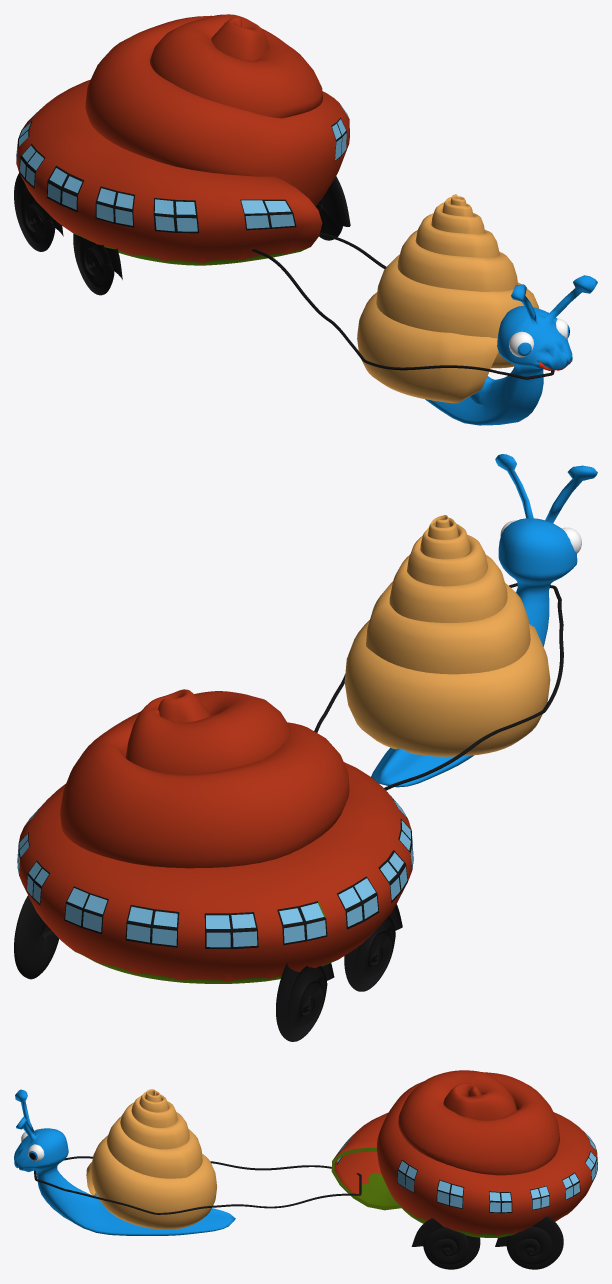
Rendered from mushlia.glb.
The picture shows the model from 3 angles, top to bottom: view 1: azimuth 30°, elevation 25°; view 2: azimuth 150°, elevation 25°; view 3: azimuth 270°, elevation 25°; orthographic projection. The views are drawn at different scales.
Parts seen in each view (by area): view 1: Cube; view 2: Cube; view 3: Cube.
Boxes of the visible parts, left/top/right/bottom form: Cube: left=14, top=14, right=597, bottom=425; Cube: left=14, top=454, right=597, bottom=1041; Cube: left=14, top=1070, right=597, bottom=1269.
Size of the model in its own units: 5.53 by 4.05 by 13.49.
